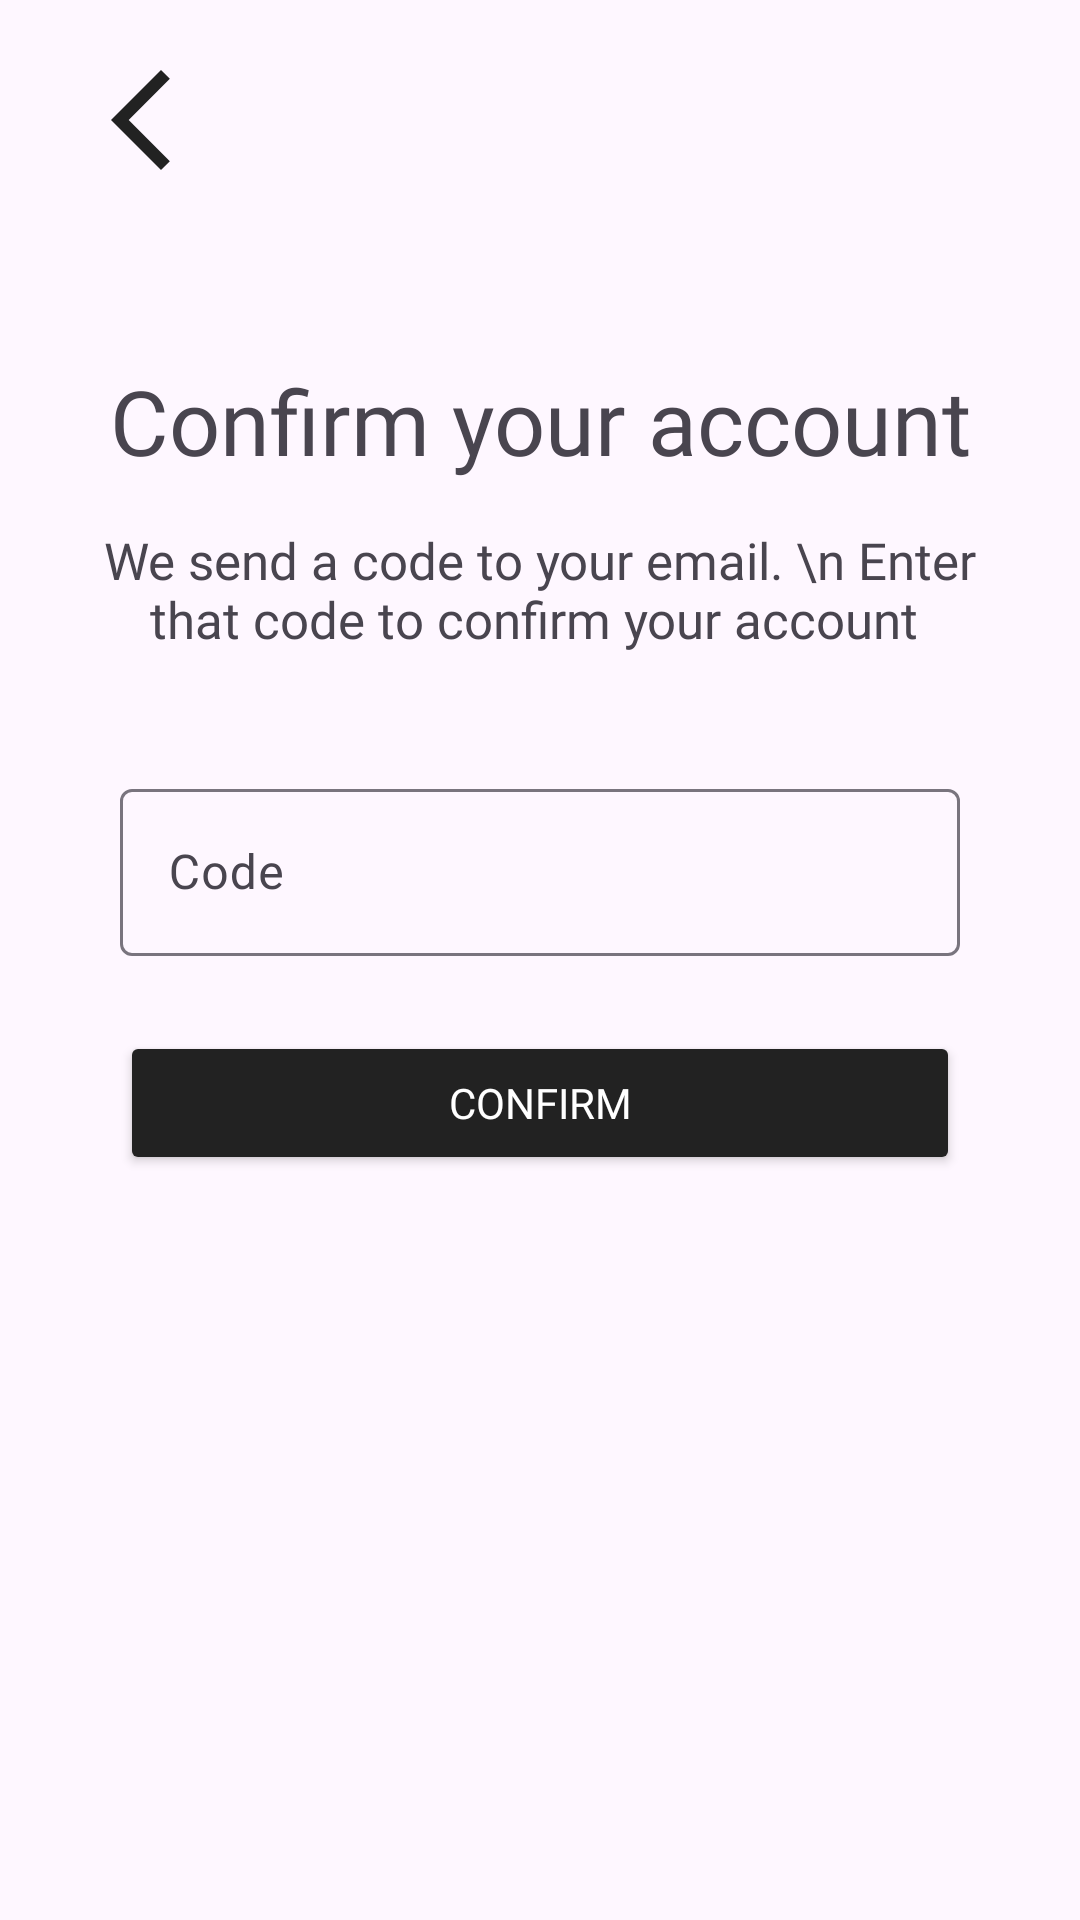

Named icons in this screenshot (1080x1920) and their centers, (x,y):
arrow left: (140,120)
